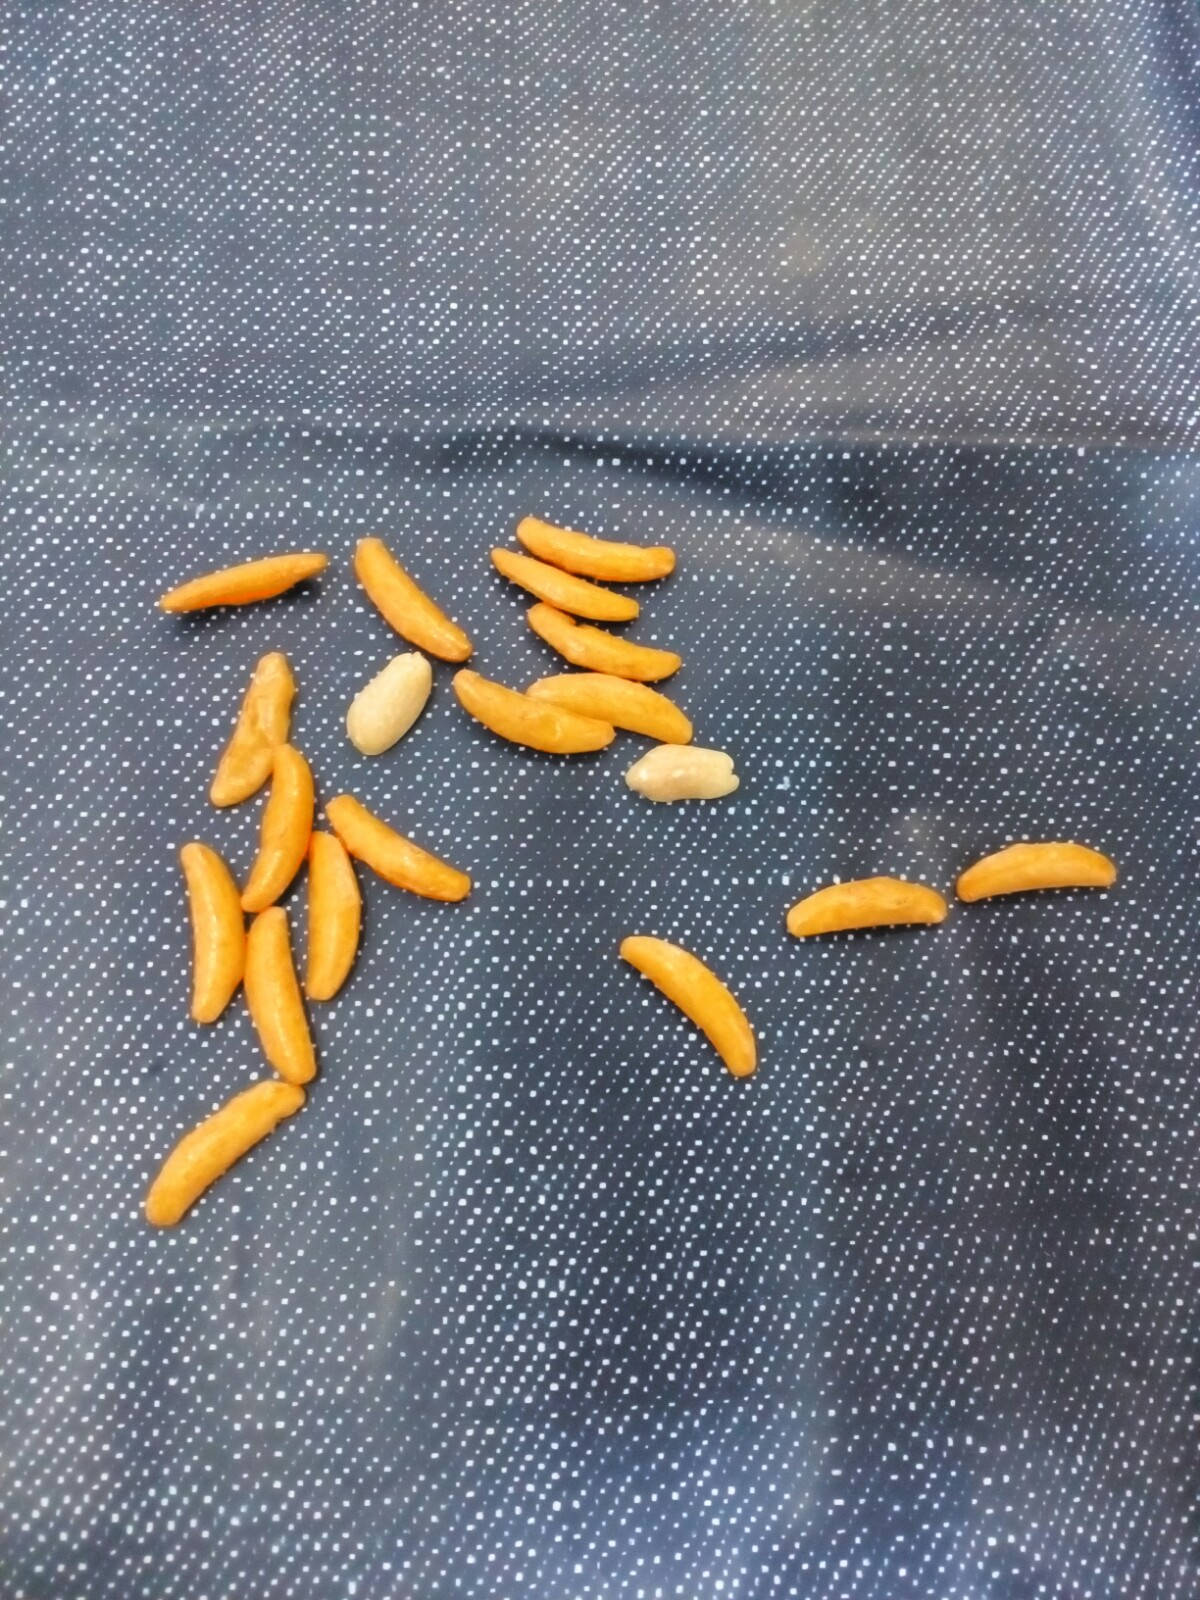peanut: (339, 632, 437, 767), (616, 736, 756, 808)
